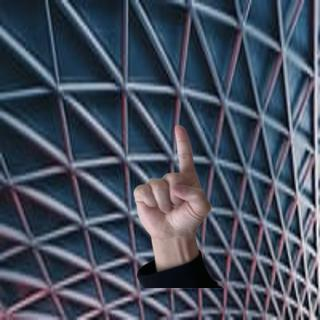IRRITATED: (128, 123, 212, 239)
